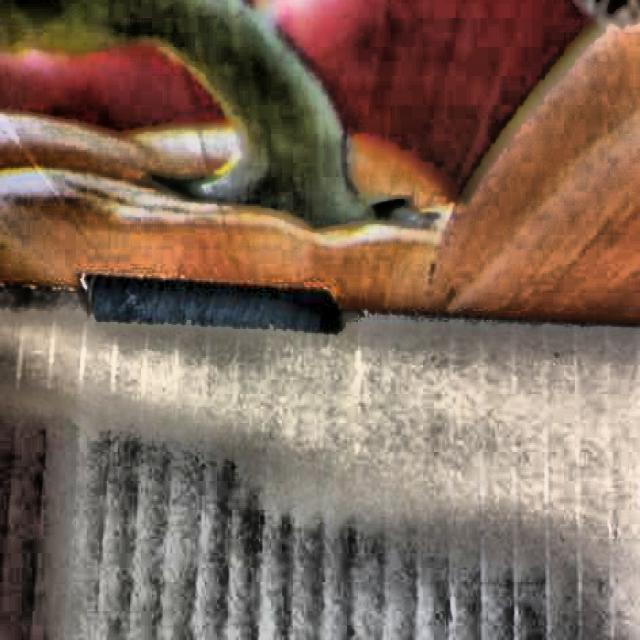cardboard: (0, 275, 640, 640), (0, 0, 640, 327)
